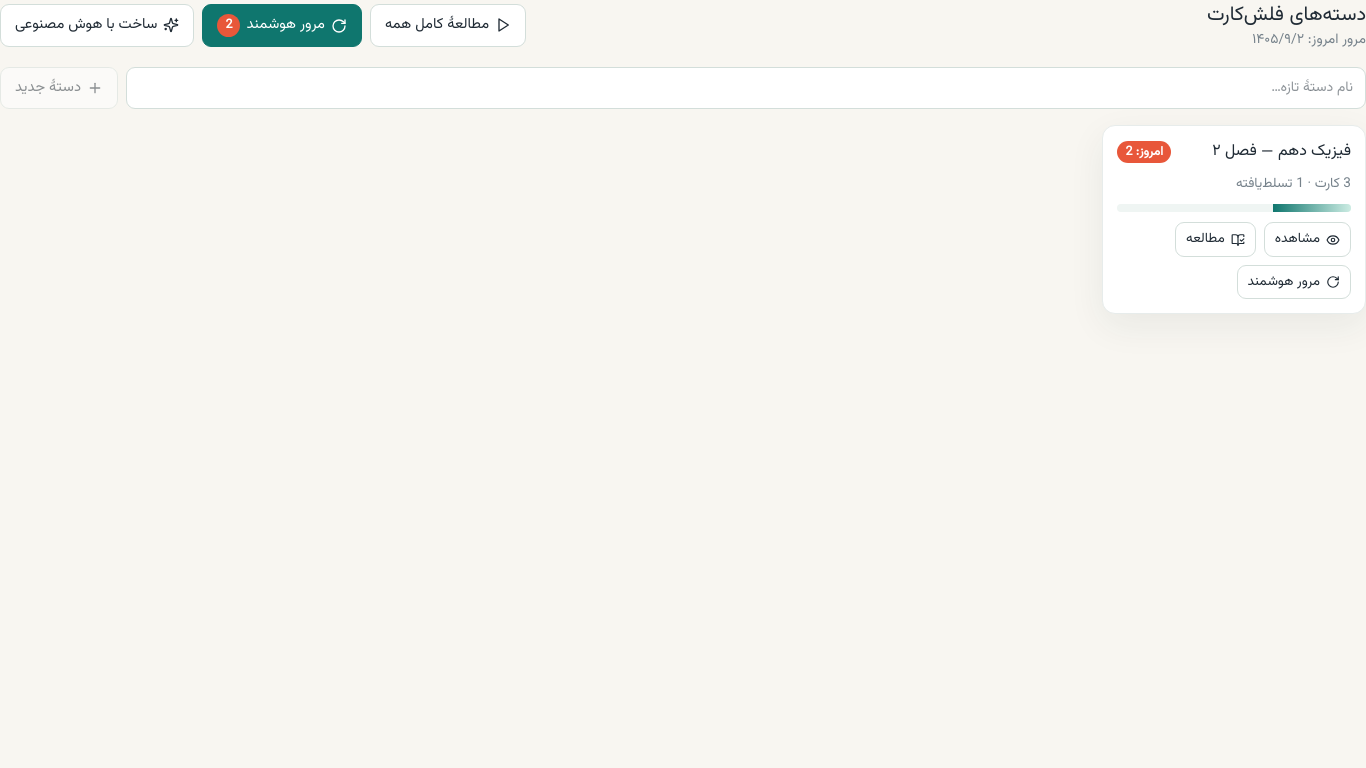
Test: generation modal › sends count, difficulty and the custom prompt to the backend
The width and height of the screenshot is (1366, 768).
Later steps or results of the test are not shown.
Click the button "ساخت با هوش مصنوعی".
click(97, 26)  # box [0,4,194,47]
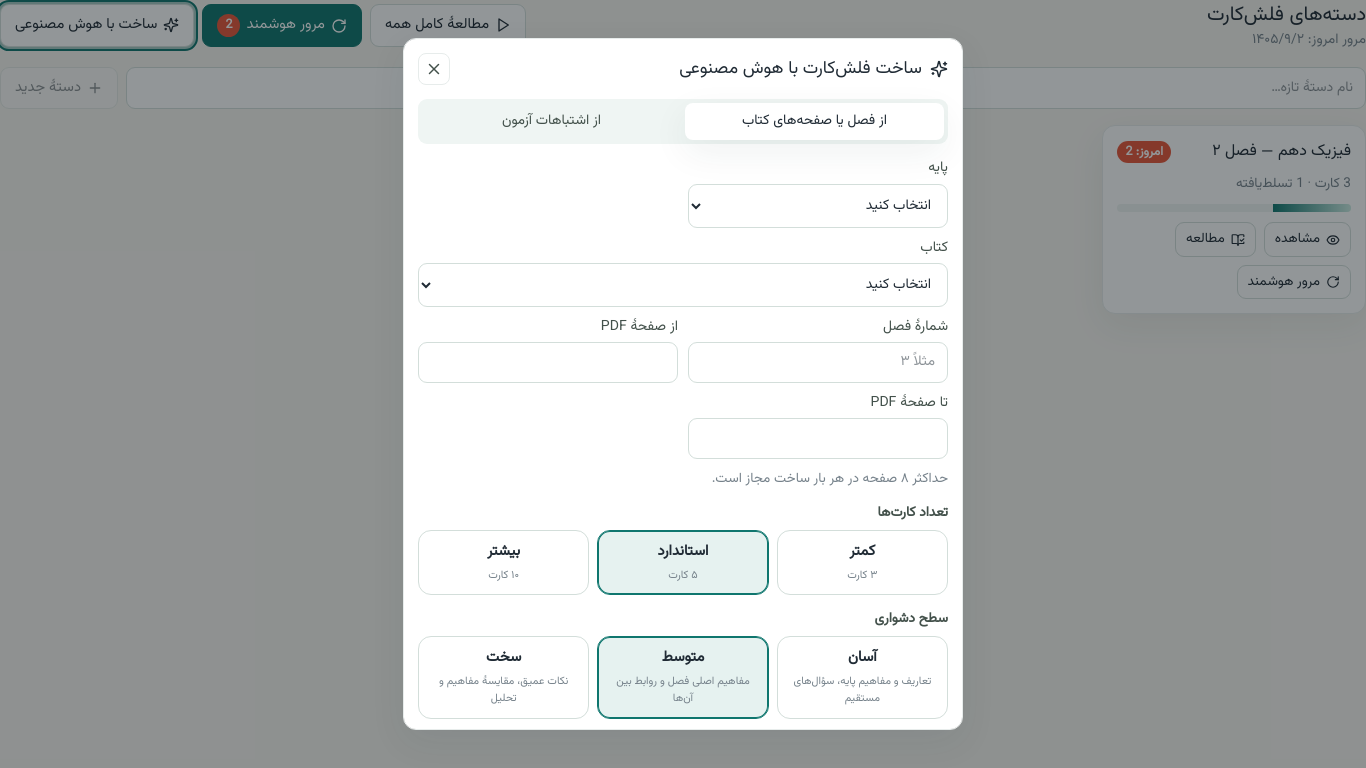
Click the button "از اشتباهات آزمون".
click(552, 122)  # box [422,103,681,140]
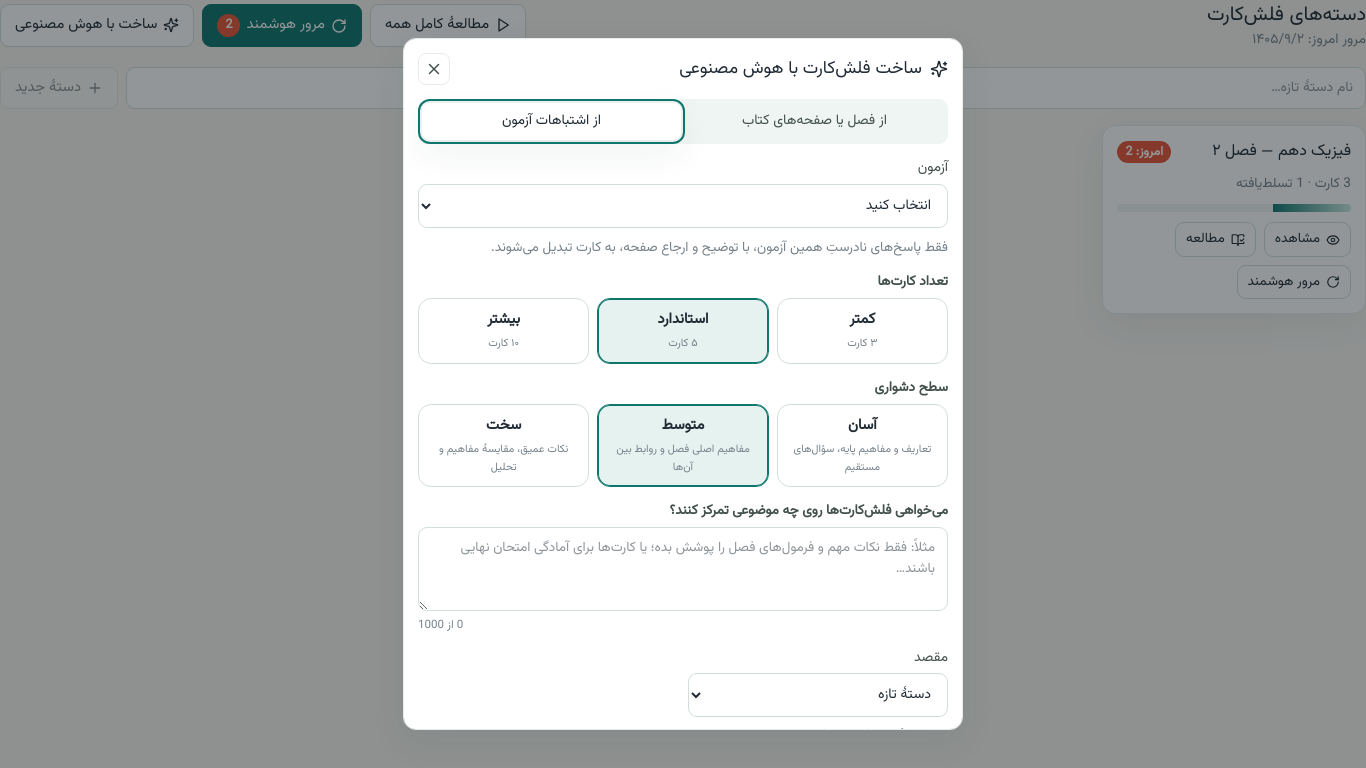
Check: the dropdown labelled "آزمون" is shown, box [418,184,948,228]
